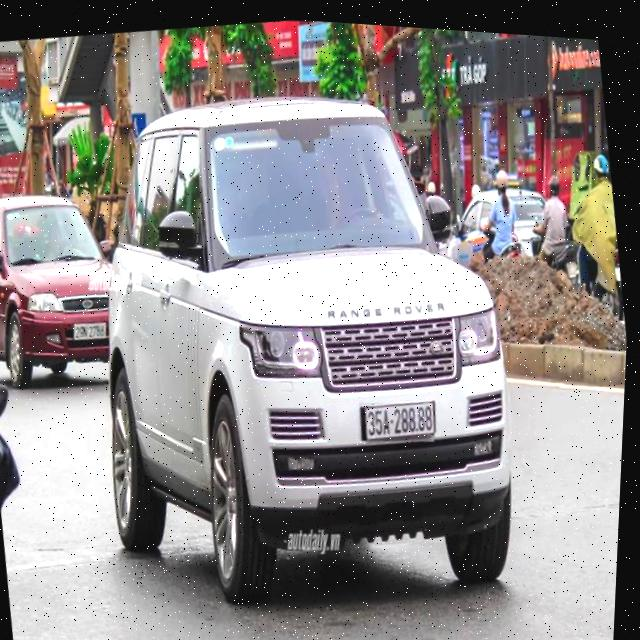car: (52, 57, 555, 640), (0, 181, 134, 404)
plate: (353, 389, 444, 453), (67, 312, 115, 350)
